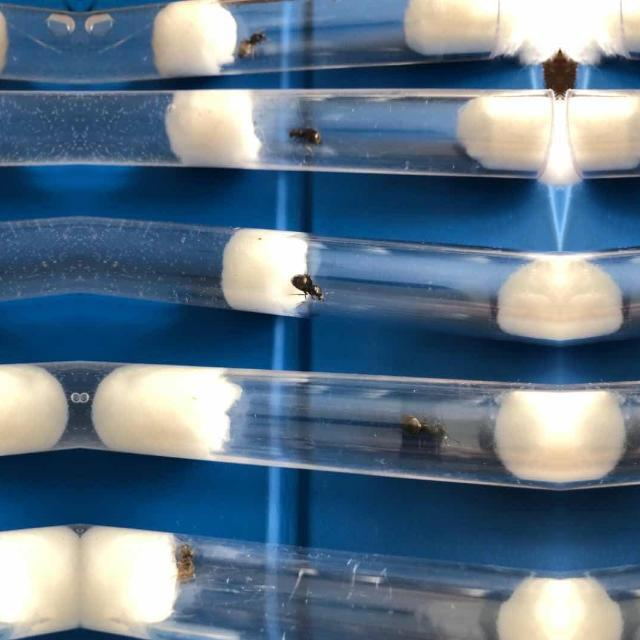Lasius: (280, 269, 338, 305), (398, 404, 450, 444), (164, 538, 202, 588), (232, 21, 272, 61), (284, 119, 326, 143)
